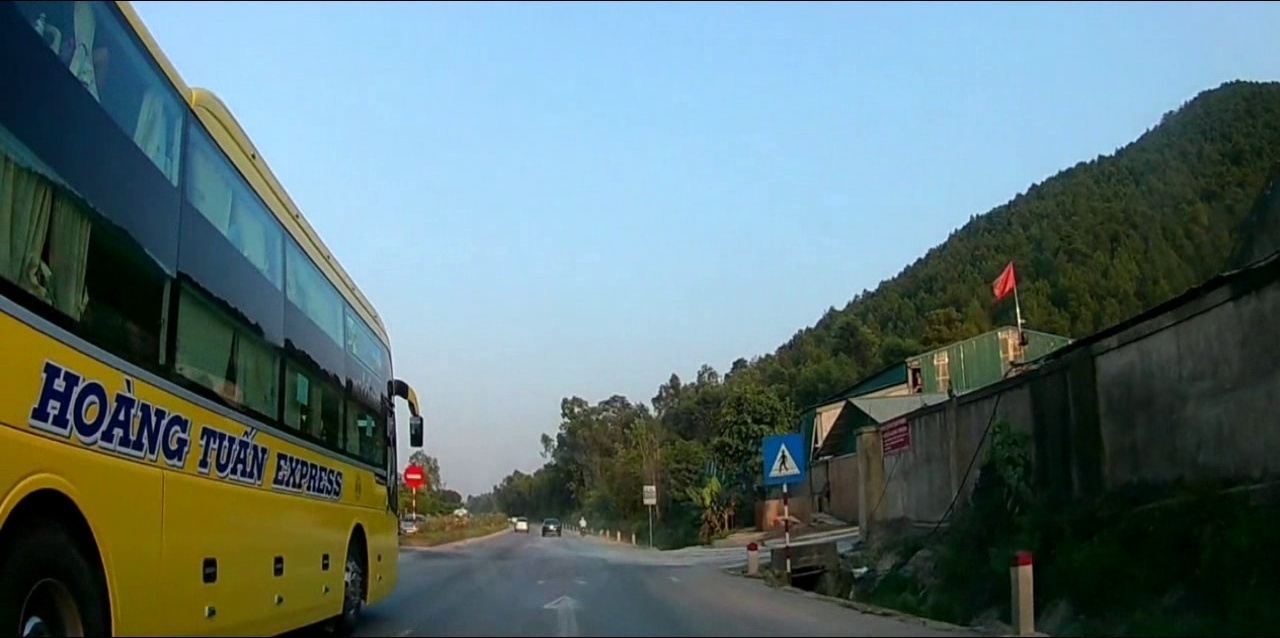Cam di nguoc chieu: (403, 462, 422, 487)
Nguoi di bo: (761, 429, 803, 482)
